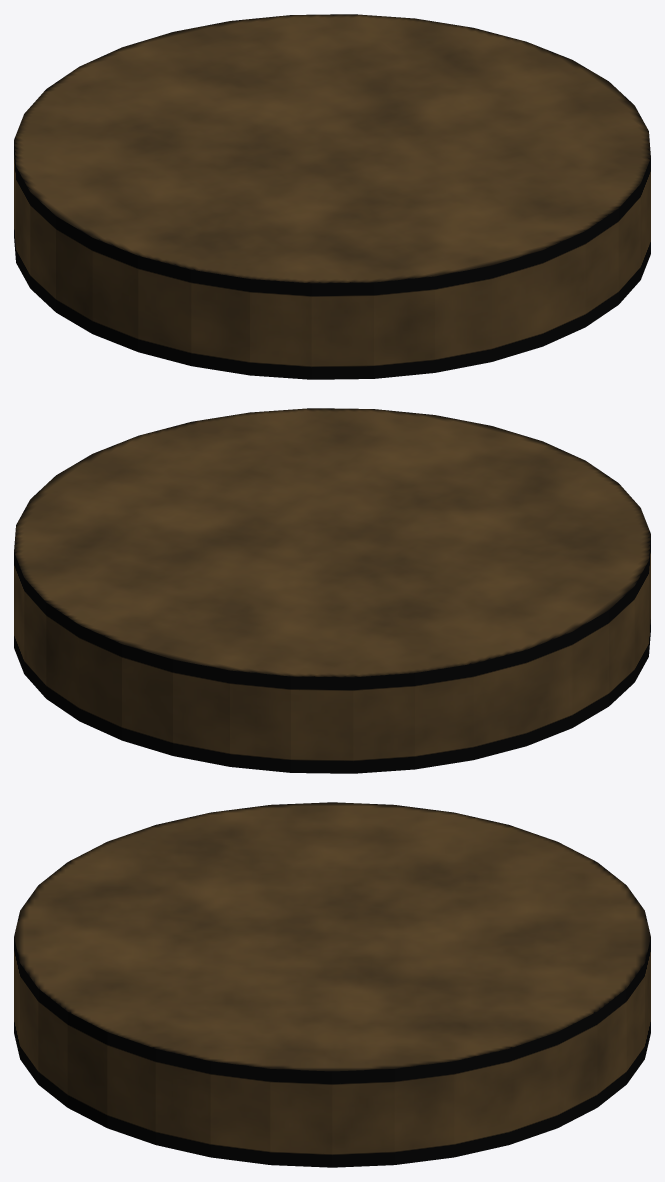
Rendered from Hanger _ locking washer__n2.glb.
The picture shows the model from 3 angles, top to bottom: view 1: azimuth 30°, elevation 25°; view 2: azimuth 150°, elevation 25°; view 3: azimuth 270°, elevation 25°; orthographic projection.
Visible parts, largest first — view 1: Hanger | locking washer; view 2: Hanger | locking washer; view 3: Hanger | locking washer.
Boxes of the visible parts, bbox=[...] form: Hanger | locking washer: bbox=[14, 14, 650, 379]; Hanger | locking washer: bbox=[14, 408, 650, 773]; Hanger | locking washer: bbox=[14, 802, 650, 1167].
Bounding box in the file's own units: 0.15 × 0.025 × 0.15.
1 material, 1 textured.
